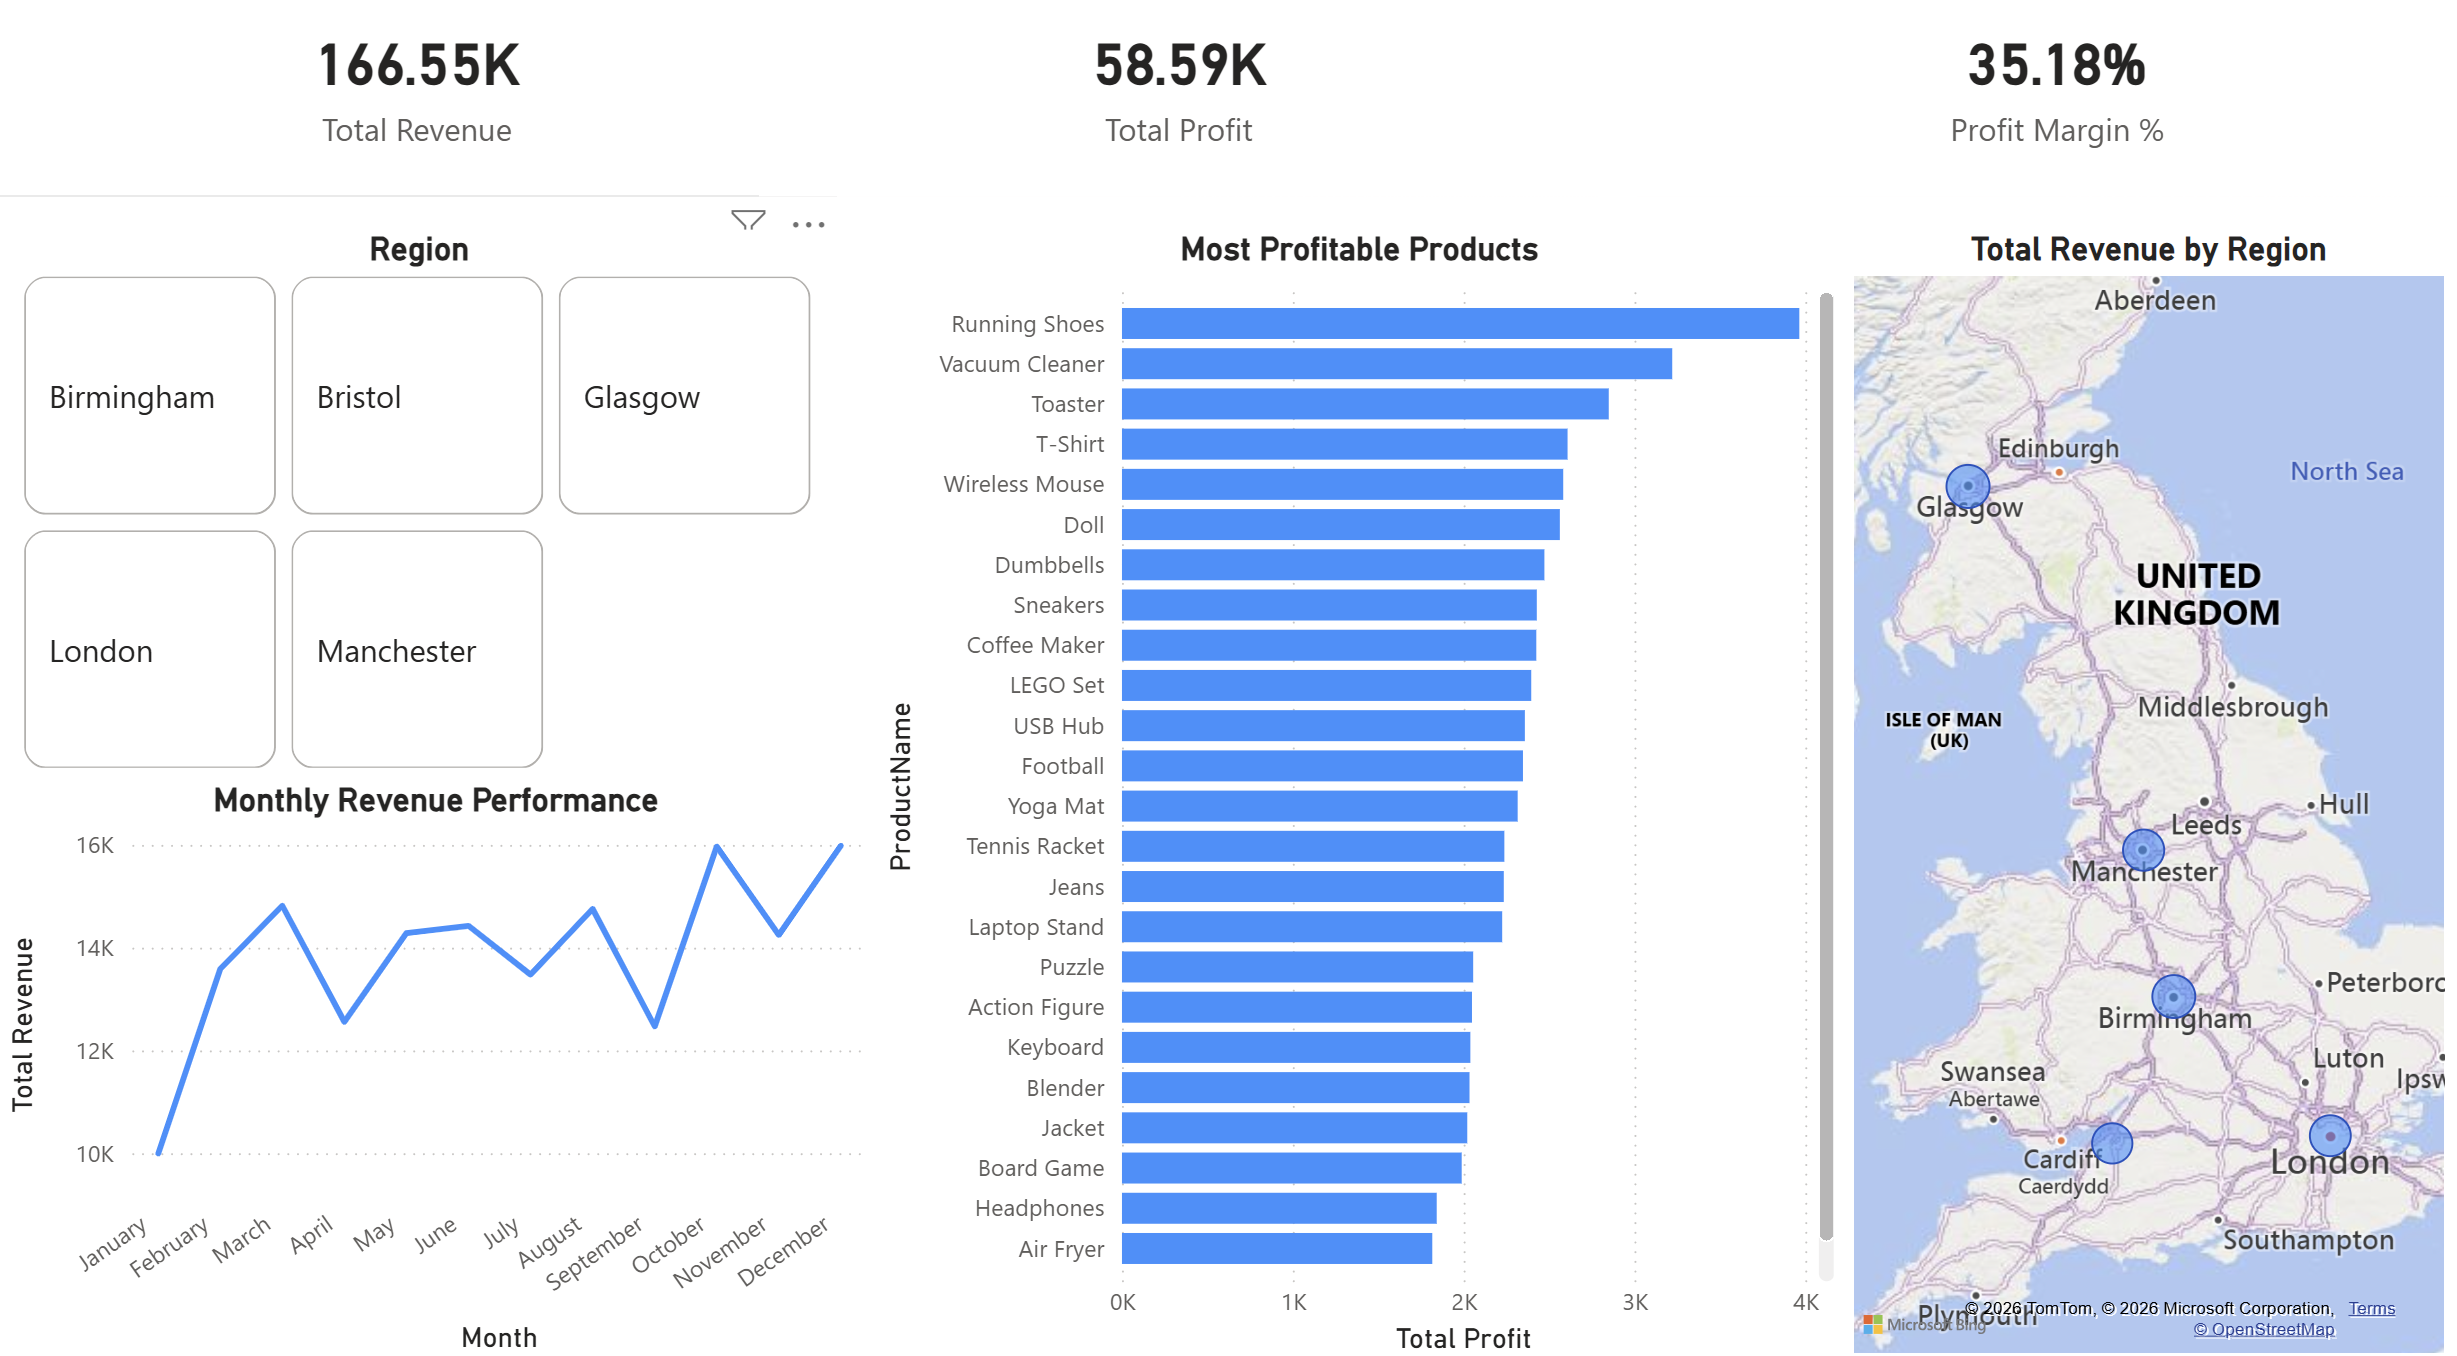

This screenshot's page, from the dashboard's own definition file:
{"tool":"powerbi","page":{"name":"Page 1","canvas":[1280,720],"ordinal":0},"visuals":[{"type":"map","fields":{"Category":["UK_Retail_Sales.Region"],"Size":["_Measures.Total Revenue"]},"box":[953.3,135,315,585],"z":0},{"type":"clusteredBarChart","title":"Most Profitable Products","fields":{"Y":["_Measures.Total Profit"],"Category":["UK_Retail_Sales.ProductName"]},"box":[453.3,135,500,585],"z":1000},{"type":"card","fields":{"Values":["_Measures.Total Revenue"]},"box":[0,0,433.3,118.3],"z":2000},{"type":"lineChart","title":"Monthly Revenue Performance","fields":{"Category":["Calendar.Month"],"Y":["_Measures.Total Revenue"]},"box":[0,420,453.3,300],"z":3000},{"type":"advancedSlicerVisual","fields":{"Values":["UK_Retail_Sales.Region"]},"box":[8.3,135,418.3,285],"z":4000},{"type":"card","fields":{"Values":["_Measures.Total Profit"]},"box":[393.3,0,433.3,118.3],"z":5000},{"type":"card","fields":{"Values":["_Measures.Profit Margin %"]},"box":[846.7,0,433.3,118.3],"z":6000}]}

Visuals, with their boxes in screenshot pixels (x1, y1, x2, y2), scaled from the page's 1280x720 canvas onto the 2457x1356 screenshot:
map - UK_Retail_Sales.Region x _Measures.Total Revenue: Rect(1830, 254, 2435, 1355)
"Most Profitable Products" clusteredBarChart: Rect(870, 254, 1830, 1355)
card - _Measures.Total Revenue: Rect(0, 0, 832, 223)
"Monthly Revenue Performance" lineChart: Rect(0, 791, 870, 1355)
advancedSlicerVisual - UK_Retail_Sales.Region: Rect(16, 254, 819, 791)
card - _Measures.Total Profit: Rect(755, 0, 1587, 223)
card - _Measures.Profit Margin %: Rect(1625, 0, 2456, 223)
